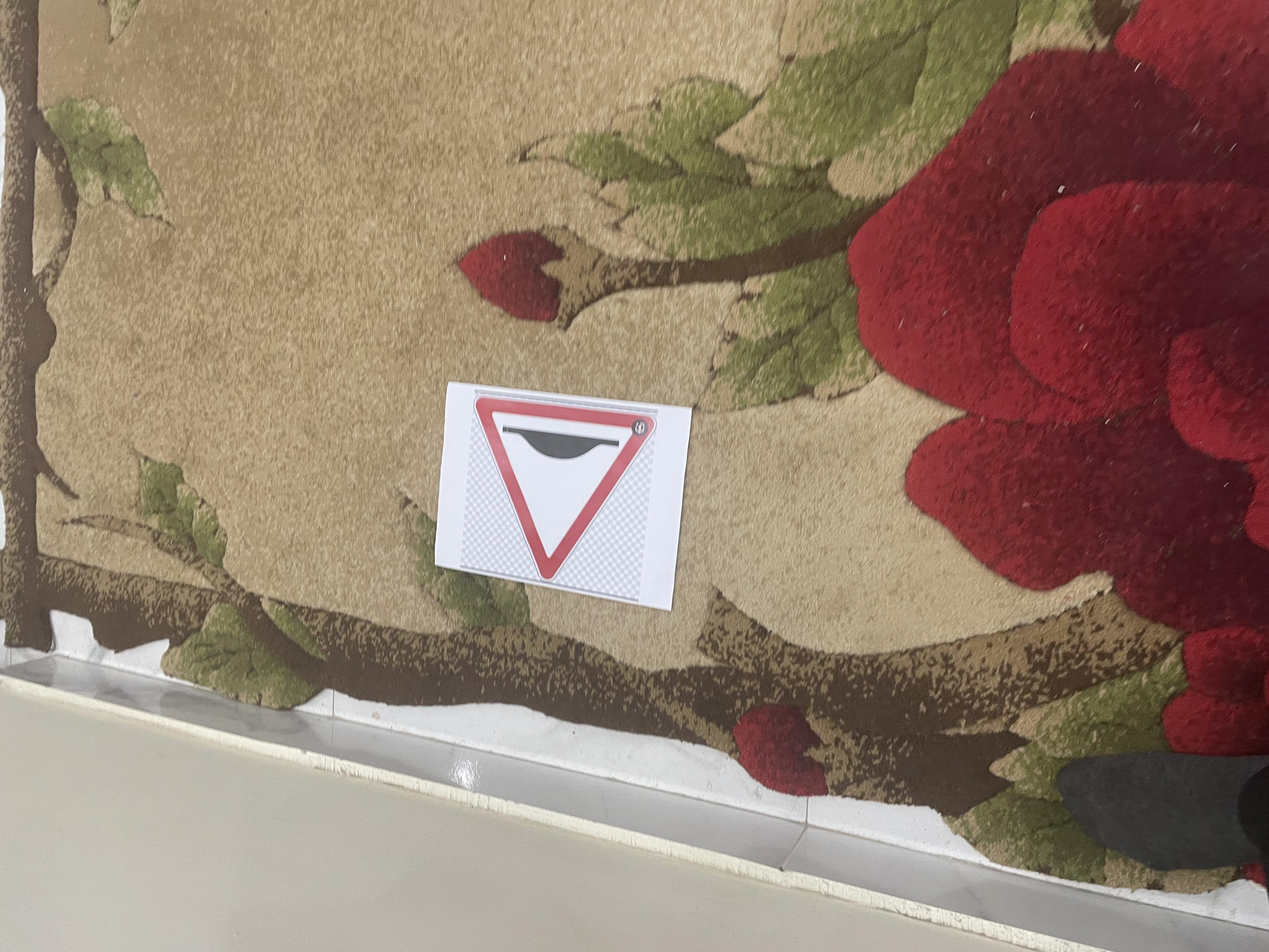Hump: (486, 352, 760, 494)
